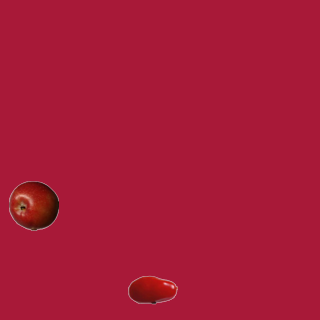Apple Braeburn: (8, 180, 58, 230)
Tomato 2: (127, 264, 177, 314)
